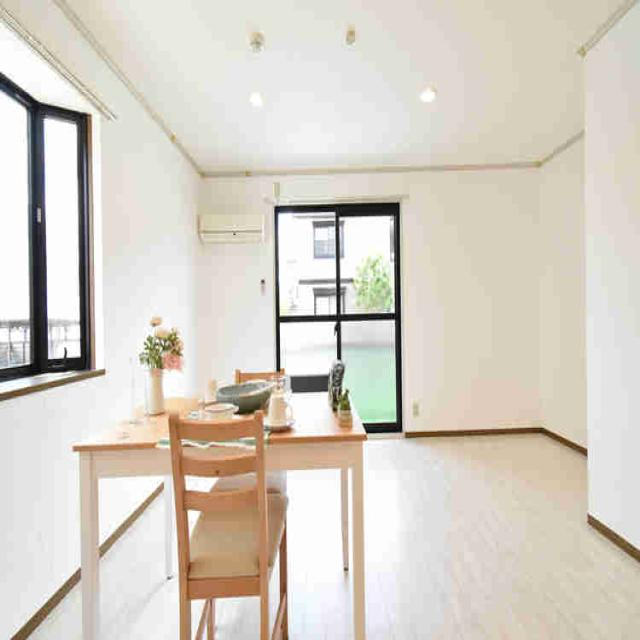white chair: (172, 409, 282, 632)
